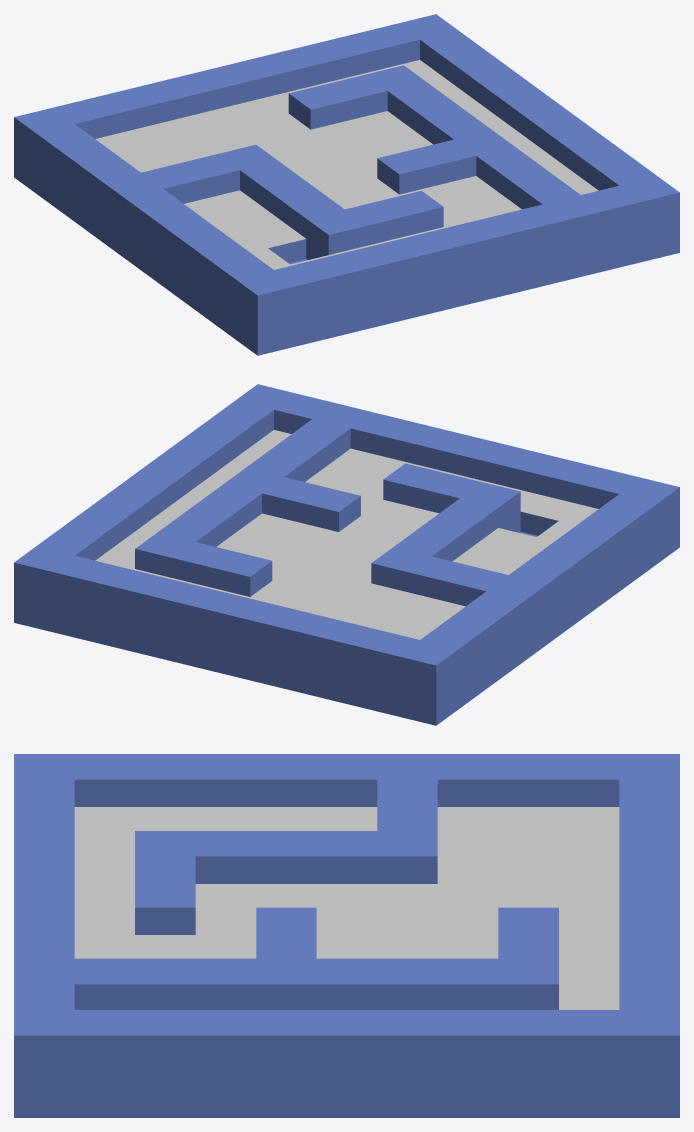
Rendered from 048_platform.fbx.
3 views of the same model, one above another, from view 1: azimuth 30°, elevation 25°; view 2: azimuth 150°, elevation 25°; view 3: azimuth 270°, elevation 25° (orthographic). The views are drawn at different scales.
Parts seen in each view (by area): view 1: Cube; view 2: Cube; view 3: Cube.
Boxes of the visible parts, bbox=[...] form: Cube: bbox=[14, 14, 679, 355]; Cube: bbox=[14, 384, 679, 725]; Cube: bbox=[14, 754, 679, 1117].
Bounding box in the file's own units: 1100 × 150 × 1100.
